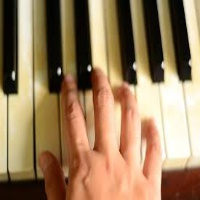ring: (117, 81, 143, 176)
